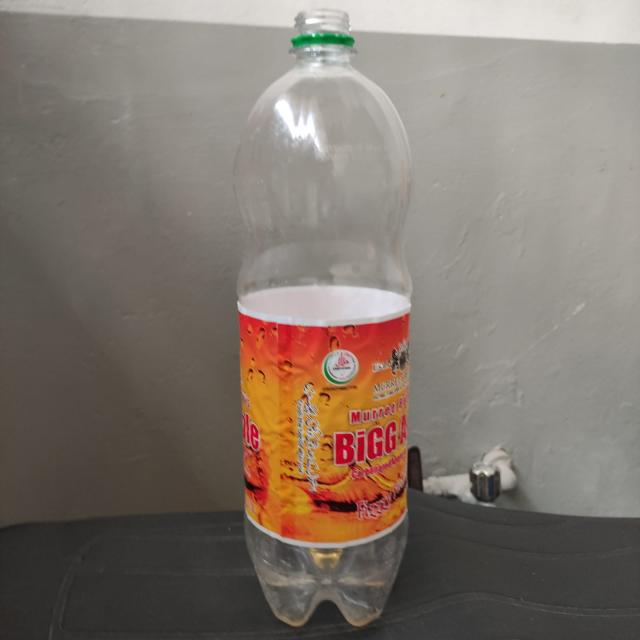bottle: (224, 12, 424, 626)
label: (236, 288, 420, 546)
